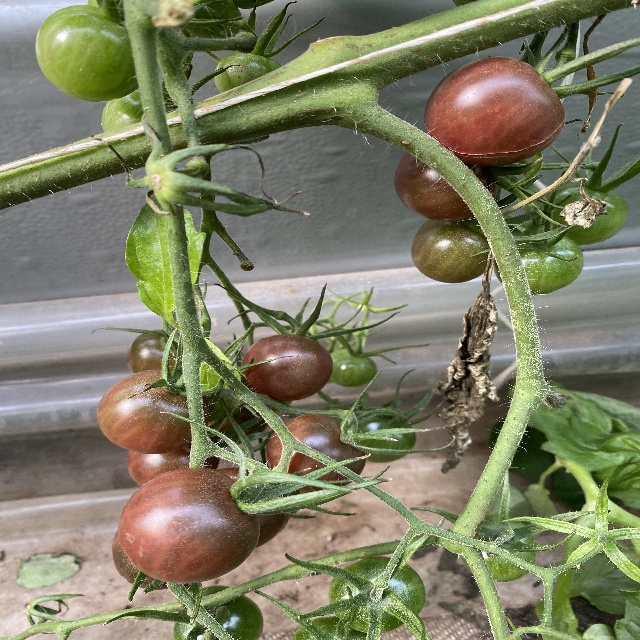l_fully_ripened: (117, 467, 261, 585), (424, 56, 566, 165), (263, 415, 366, 492), (213, 468, 292, 547), (242, 334, 332, 400)
l_green: (35, 5, 139, 102), (328, 556, 426, 634), (492, 227, 585, 296), (539, 182, 630, 246), (461, 515, 536, 583), (172, 584, 263, 639), (343, 406, 417, 462), (214, 54, 282, 93), (290, 616, 383, 640), (329, 349, 378, 387), (102, 91, 145, 133)
l_half_ripened: (97, 369, 213, 454), (394, 134, 497, 223), (127, 427, 220, 487), (411, 219, 493, 284), (128, 330, 183, 374)
